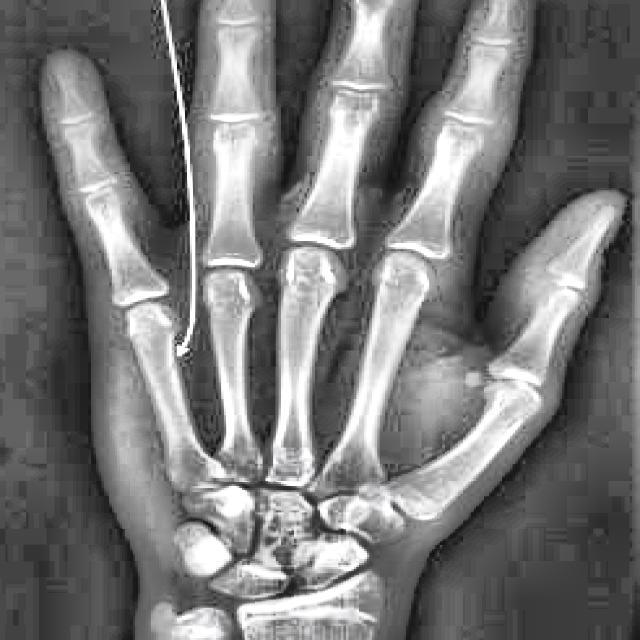fracture: (156, 356, 182, 389)
